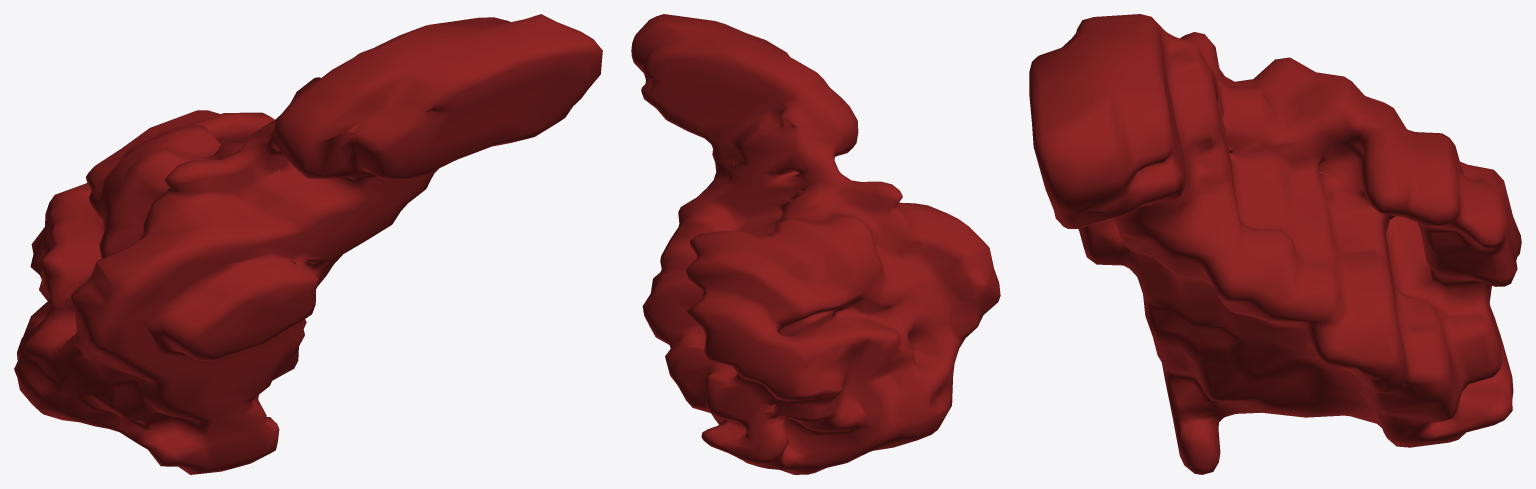
Rendered from hemorrhage.glb.
3 views of the same model, side by side, from view 1: azimuth 30°, elevation 25°; view 2: azimuth 150°, elevation 25°; view 3: azimuth 270°, elevation 25° (orthographic). The views are drawn at different scales.
Visible parts, largest first — view 1: intracerebral_hemorrhage.nii.gz; view 2: intracerebral_hemorrhage.nii.gz; view 3: intracerebral_hemorrhage.nii.gz.
Part boxes in pixels (bbox=[...]): intracerebral_hemorrhage.nii.gz: bbox=[14, 14, 602, 474]; intracerebral_hemorrhage.nii.gz: bbox=[631, 14, 1000, 474]; intracerebral_hemorrhage.nii.gz: bbox=[1029, 14, 1521, 474].
Size of the model in its own units: 0.1701 by 0.14 by 0.1202.
